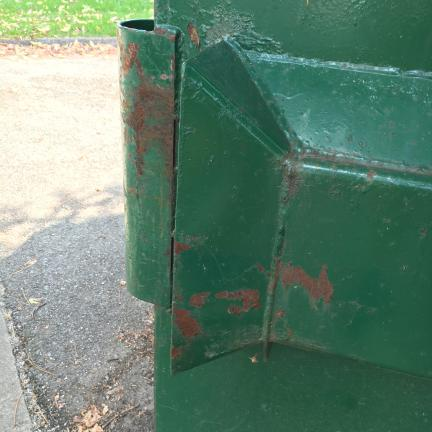besi_tidak_karat: (182, 0, 432, 231), (159, 372, 432, 432), (336, 232, 430, 367)
